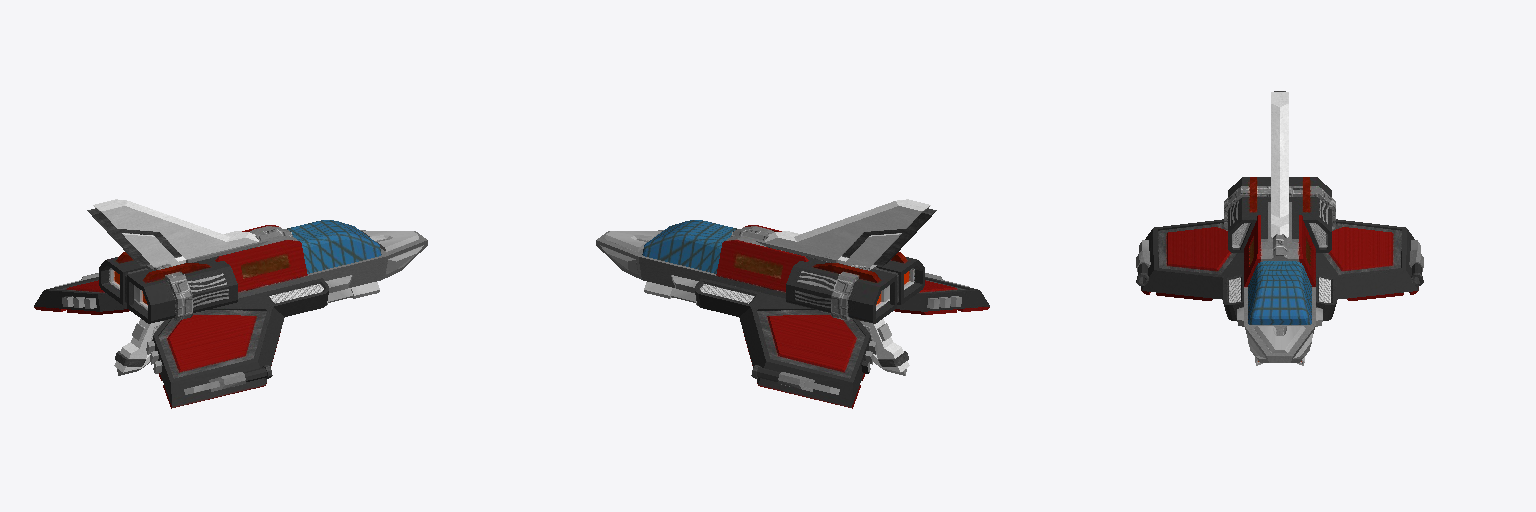
3 renders of one model, left to right at view 1: azimuth 30°, elevation 25°; view 2: azimuth 150°, elevation 25°; view 3: azimuth 270°, elevation 25°, orthographic.
Parts seen in each view (by area): view 1: Object_f01_diffuse.jpg; view 2: Object_f01_diffuse.jpg; view 3: Object_f01_diffuse.jpg.
Part boxes in pixels (bbox=[...]): Object_f01_diffuse.jpg: bbox=[34, 199, 427, 408]; Object_f01_diffuse.jpg: bbox=[596, 199, 989, 408]; Object_f01_diffuse.jpg: bbox=[1136, 91, 1423, 365].
Size of the model in its own units: 2.5 by 1.24 by 1.87.
2 materials, 1 textured.